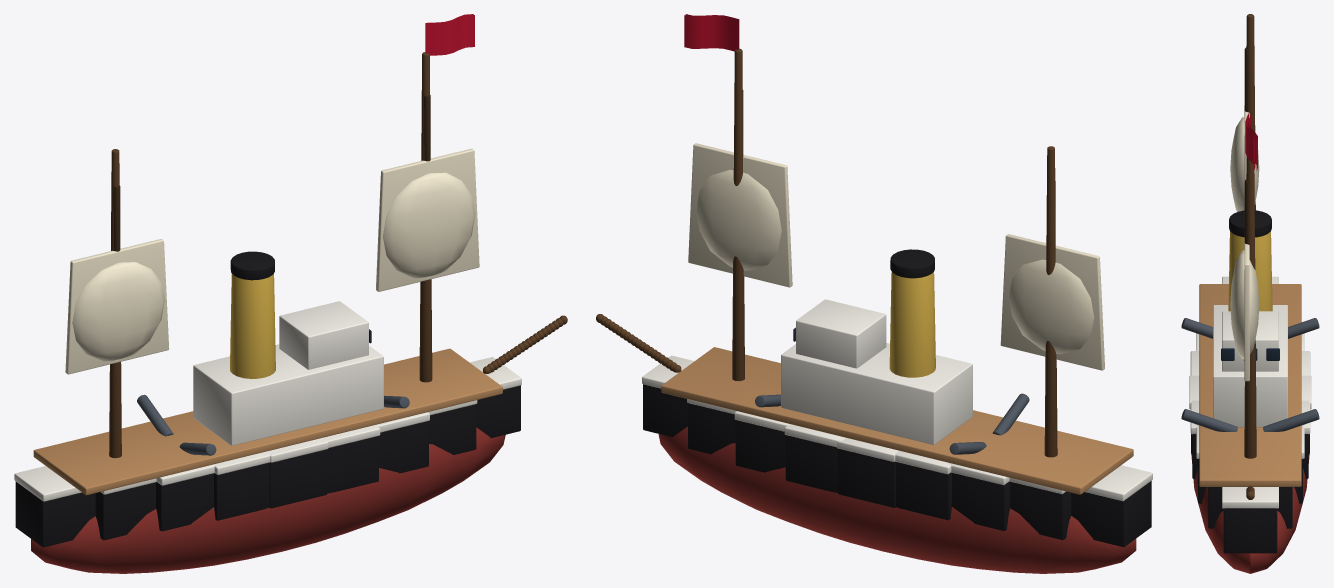
File: navio_vapor_guerra.glb
3 renders of one model, left to right at view 1: azimuth 30°, elevation 25°; view 2: azimuth 150°, elevation 25°; view 3: azimuth 270°, elevation 25°, orthographic. The views are drawn at different scales.
Visible parts, largest first — view 1: navio_vapor_guerra; view 2: navio_vapor_guerra; view 3: navio_vapor_guerra.
Part boxes in pixels (left/top/right/bottom): navio_vapor_guerra: left=14, top=14, right=567, bottom=573; navio_vapor_guerra: left=596, top=14, right=1152, bottom=573; navio_vapor_guerra: left=1181, top=14, right=1319, bottom=573.
Bounding box in the file's own units: 5.29 × 4.57 × 1.22.
